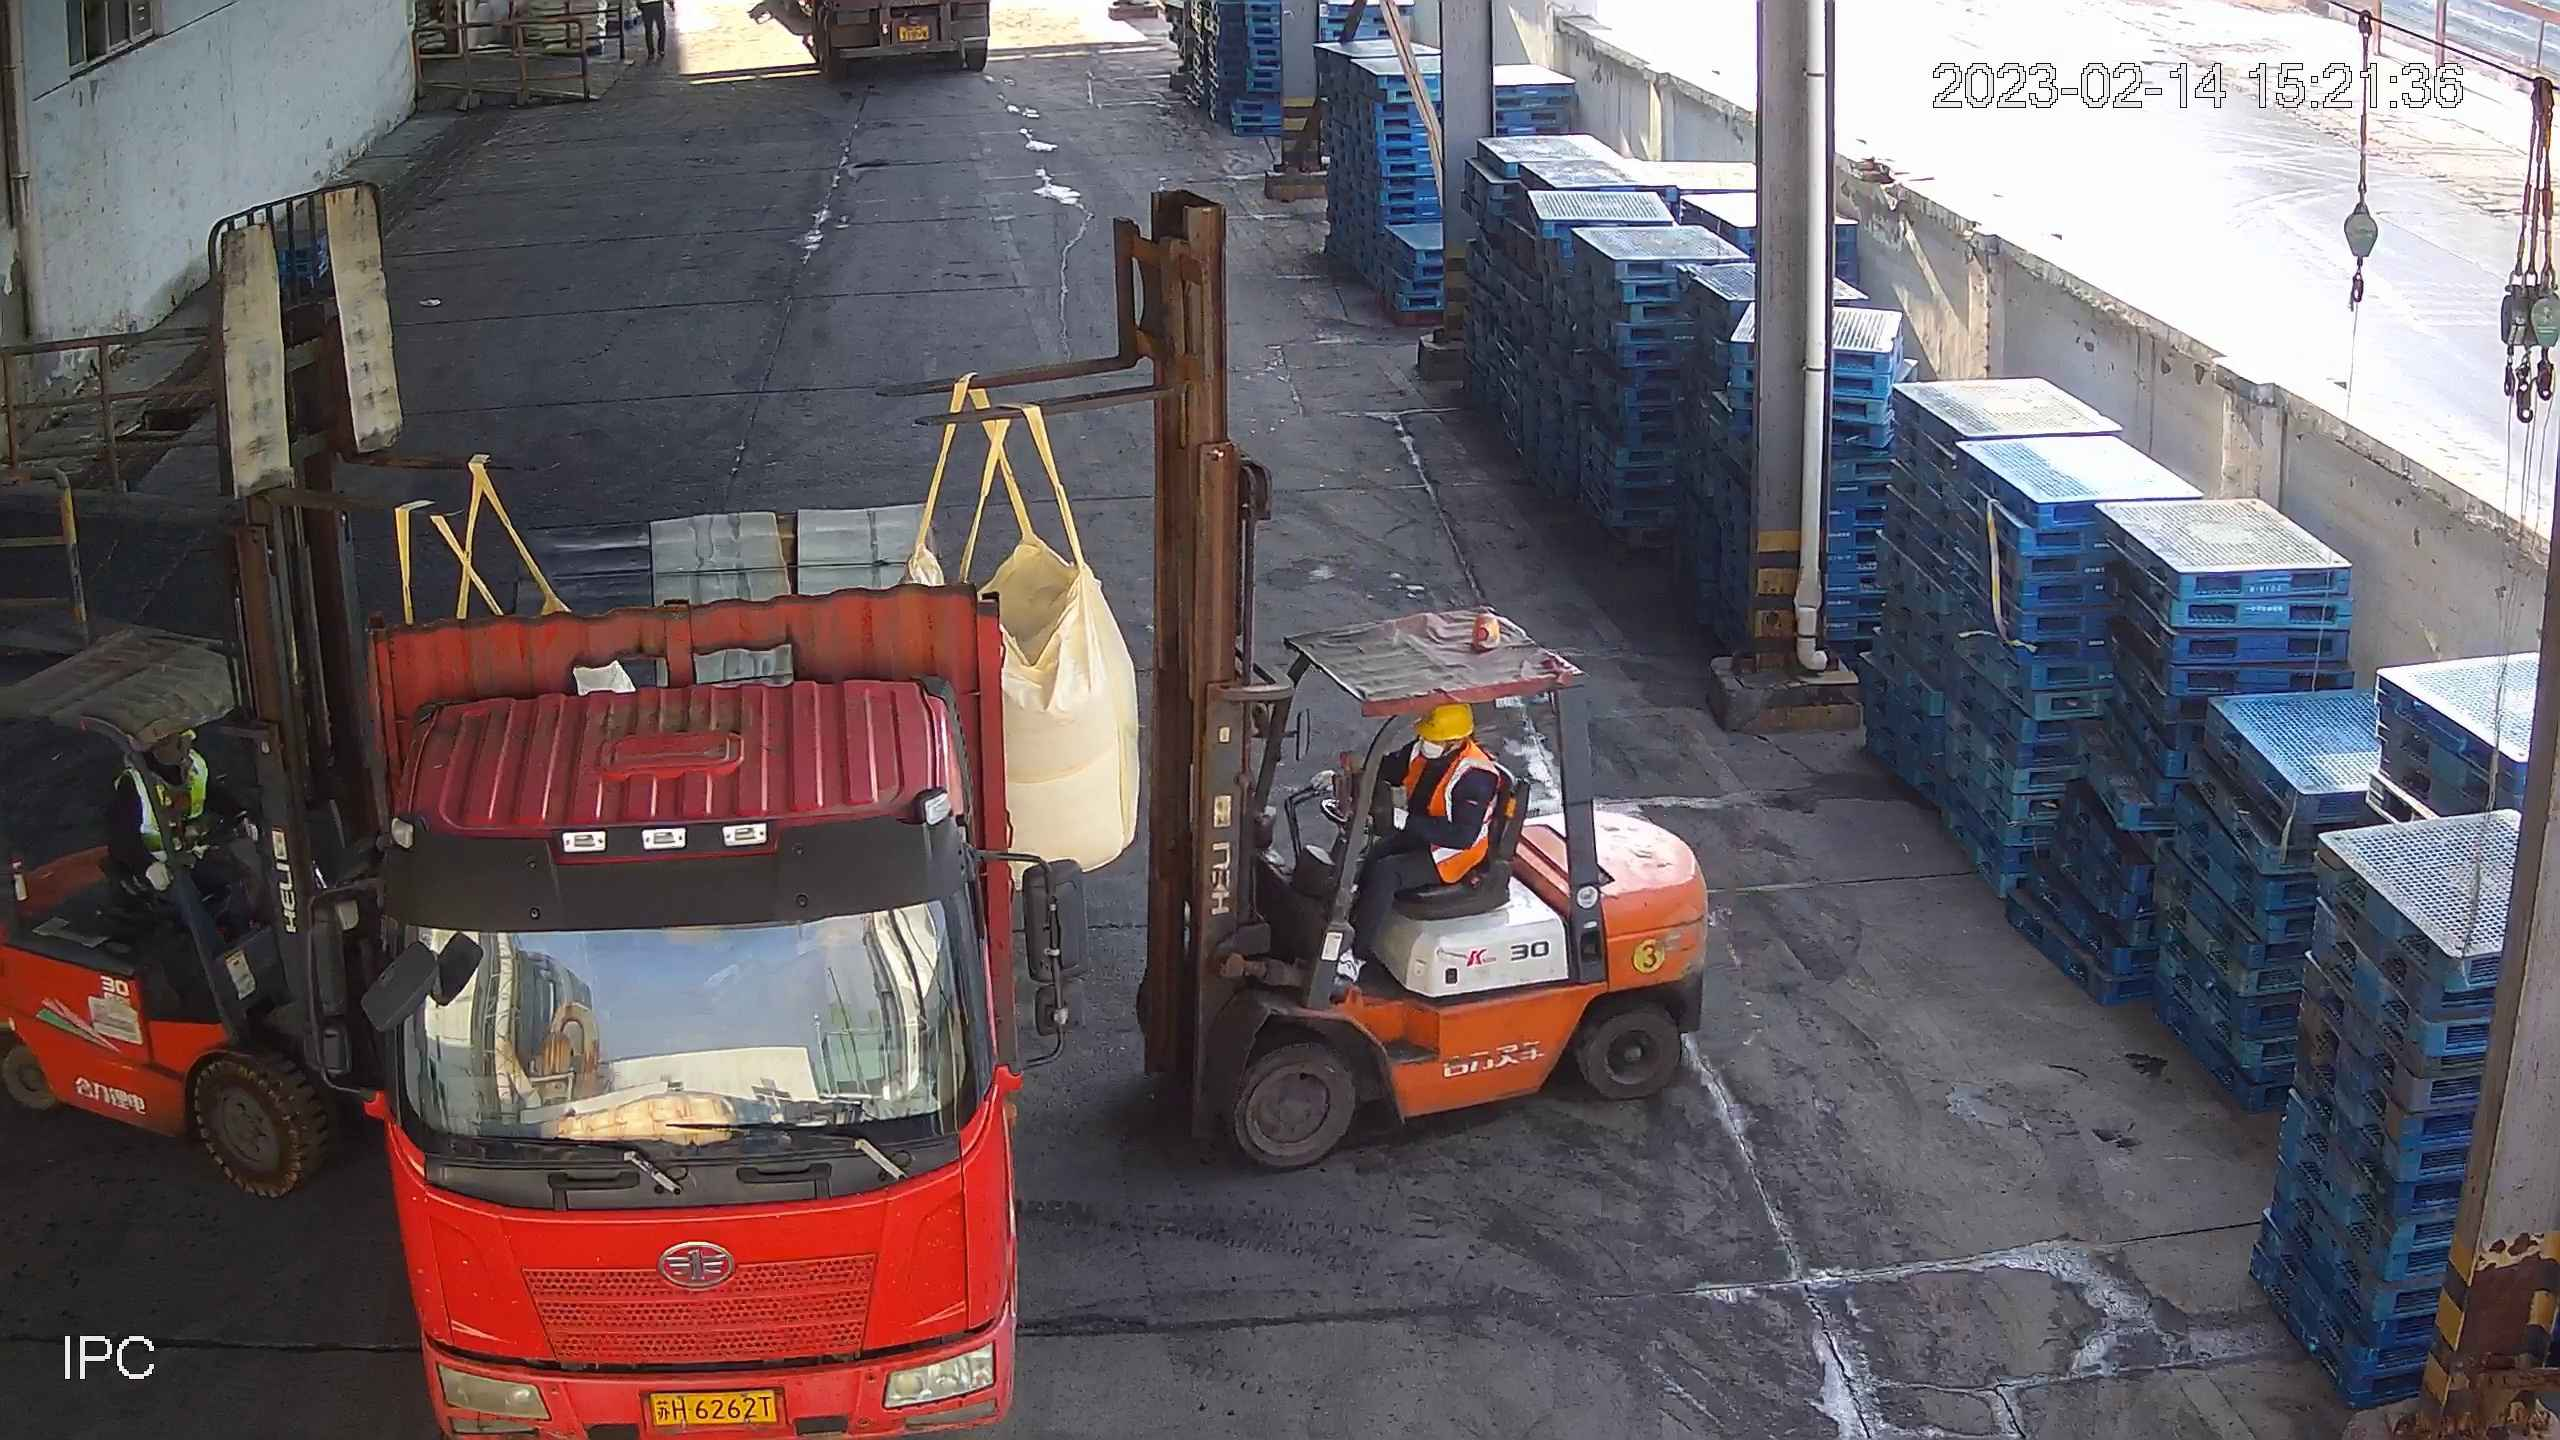head: (1397, 700, 1501, 791)
helmet: (1408, 702, 1475, 741)
people: (1310, 698, 1504, 983)
truck: (358, 487, 1023, 1440)
